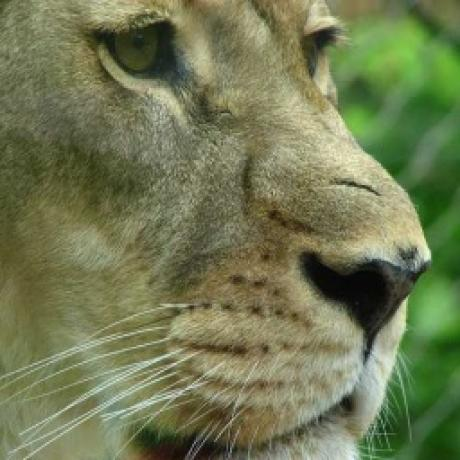Lion: (0, 0, 435, 460)
